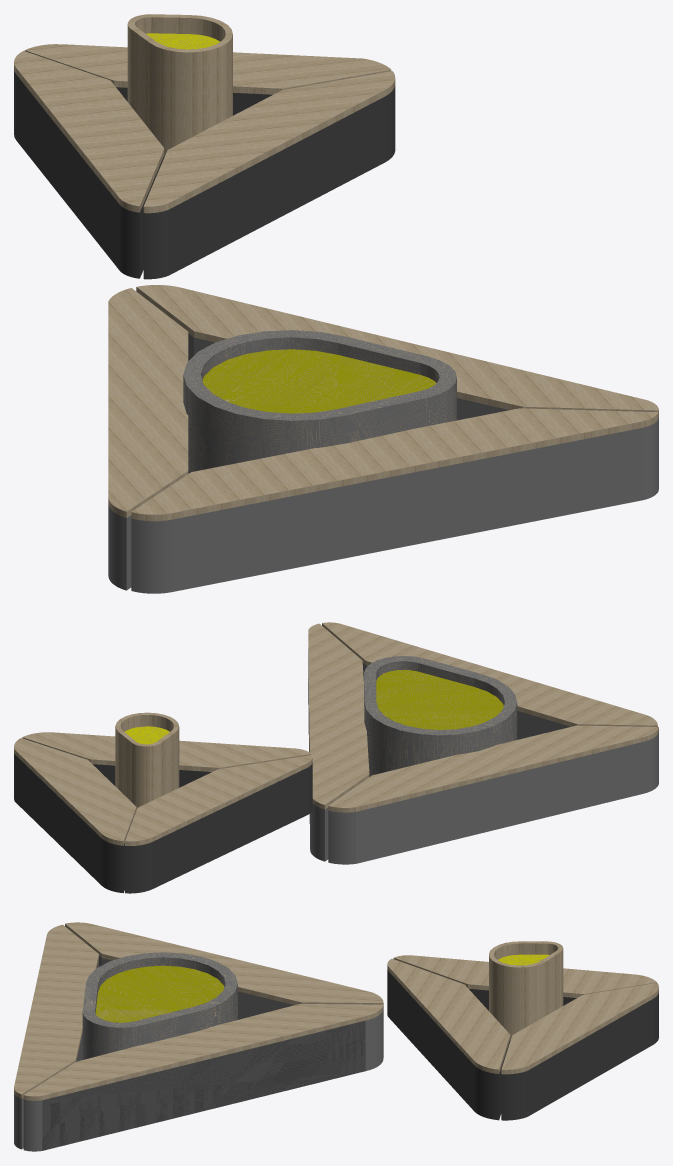
The model's file is Garden+Bench3.dae.
3 views of the same model, one above another, from view 1: azimuth 30°, elevation 25°; view 2: azimuth 150°, elevation 25°; view 3: azimuth 270°, elevation 25° (orthographic). The views are drawn at different scales.
Visible parts, largest first — view 1: group_5, group_12 (×3), group_0 (×3), group_13 (×2), group_9, group_7, group_8, group_10 (×3), group_3, group_4; view 2: group_3, group_12 (×3), group_13 (×3), group_0 (×3), group_7, group_8, group_9, group_10 (×3), group_4, group_5; view 3: group_4 (×2), group_12 (×3), group_0 (×3), group_13 (×2), group_8, group_9, group_7, group_10 (×3), group_3, group_5.
Part boxes in pixels (x1,y1,x2,y2): group_5: (131,419,658,593); group_12 (×3): (14,44,395,213); group_0 (×3): (183,330,456,473); group_13 (×2): (14,69,395,279); group_9: (131,408,658,521); group_7: (108,288,188,517); group_8: (136,285,658,416); group_10 (×3): (127,14,232,156); group_3: (108,504,131,590); group_4: (188,333,658,489); group_3: (328,732,658,864); group_12 (×3): (14,732,312,845); group_13 (×3): (14,752,312,893); group_0 (×3): (364,656,517,776); group_7: (328,725,658,812); group_8: (308,623,369,809); group_9: (322,622,657,726); group_10 (×3): (115,712,179,809); group_4: (310,803,328,861); group_5: (362,663,570,739); group_4 (×2): (23,1010,383,1151); group_12 (×3): (387,955,658,1074); group_0 (×3): (82,952,237,1059); group_13 (×2): (387,969,658,1120); group_8: (23,1004,383,1100); group_9: (14,924,98,1098); group_7: (65,922,383,1007); group_10 (×3): (489,941,563,1040); group_3: (99,956,383,1057); group_5: (14,959,98,1149).
Size of the model in its own units: 149 by 204 by 54.72.
Materials: 8 (2 with a texture image).
